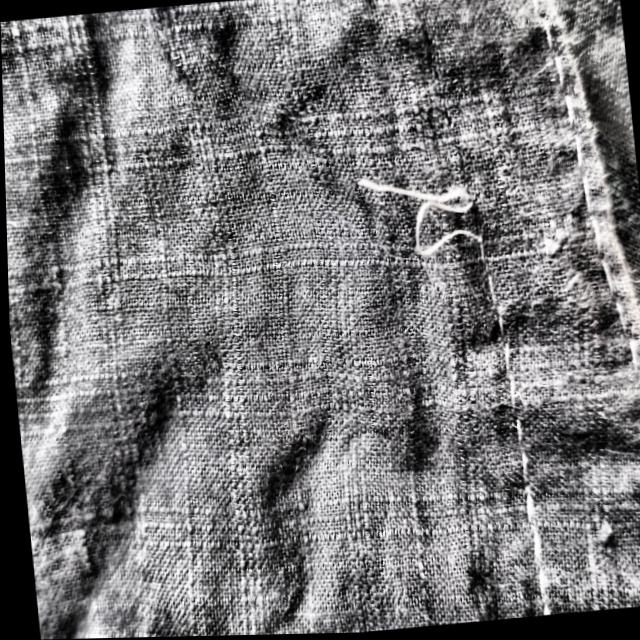Stitch: (338, 132, 510, 329)
